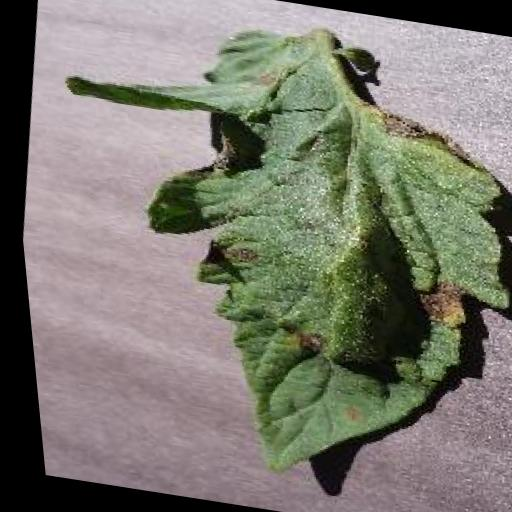Early Blight: (137, 14, 512, 503)
